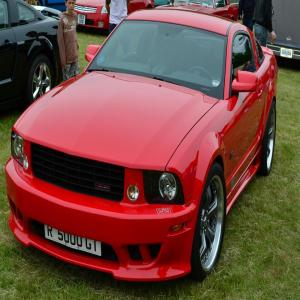Vehicle-registration-plate: (45, 223, 103, 258), (281, 47, 294, 59), (79, 16, 87, 25)
